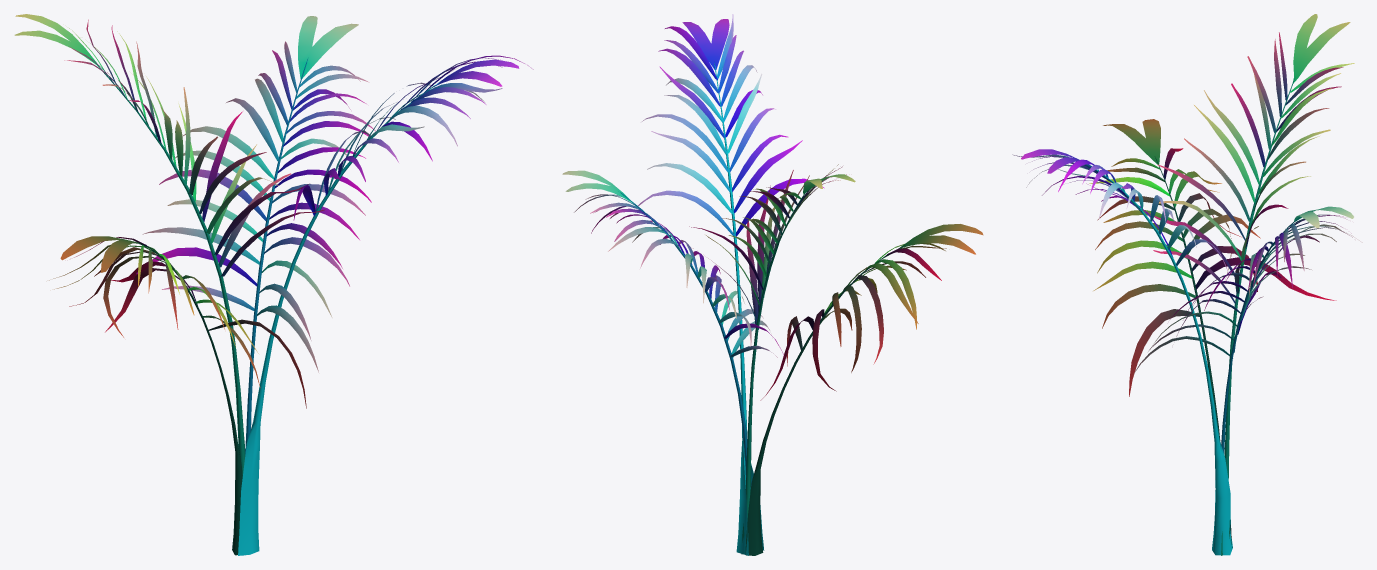
Rendered from ukgkcilia_VarD_LOD1.fbx.
The picture shows the model from 3 angles, left to right: view 1: azimuth 30°, elevation 25°; view 2: azimuth 150°, elevation 25°; view 3: azimuth 270°, elevation 25°; orthographic projection. The views are drawn at different scales.
Parts seen in each view (by area): view 1: _e1xp_VarD_LOD2; view 2: _e1xp_VarD_LOD2; view 3: _e1xp_VarD_LOD2.
Part boxes in pixels (<box>): _e1xp_VarD_LOD2: <box>14,14,533,555</box>; _e1xp_VarD_LOD2: <box>562,14,983,555</box>; _e1xp_VarD_LOD2: <box>1012,14,1362,555</box>.
Bounding box in the file's own units: 91.35 × 108 × 74.42.
